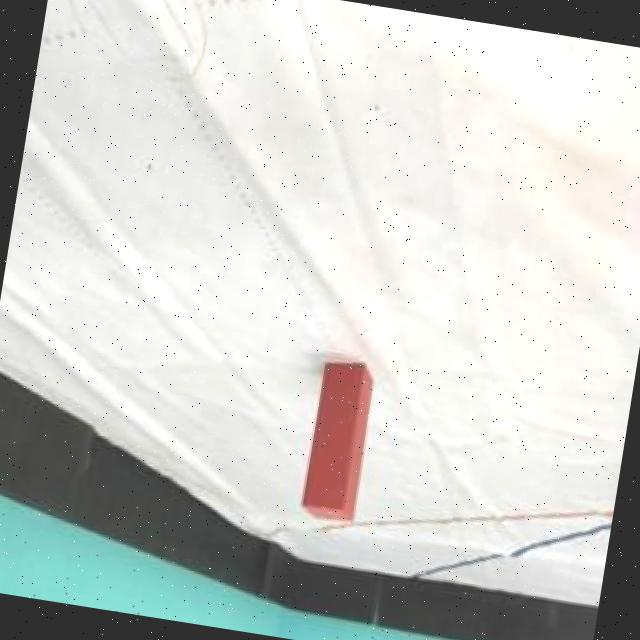redbox: (300, 358, 376, 525)
